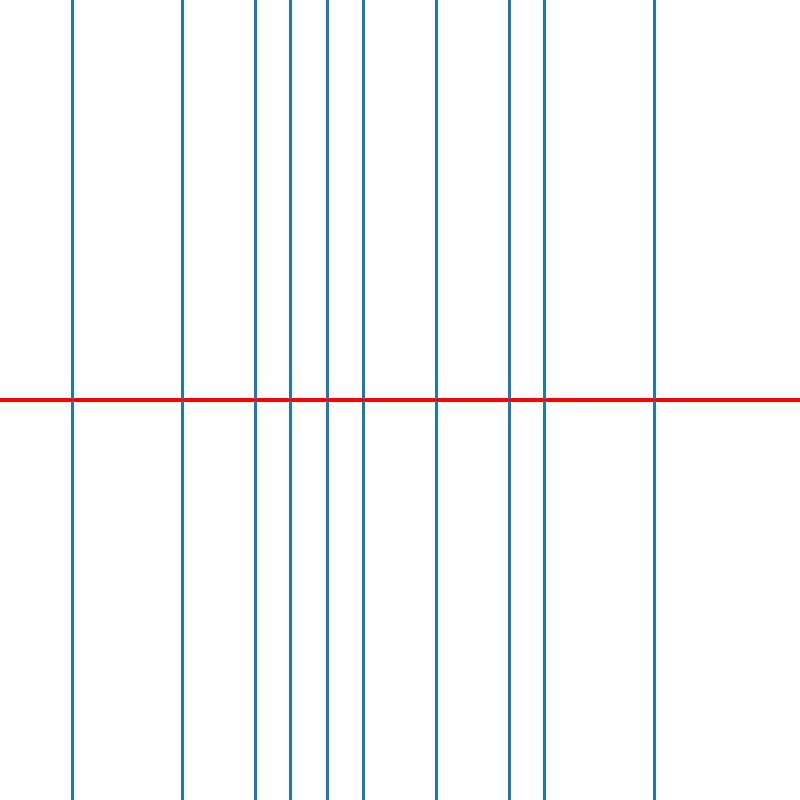root: (432, 396, 440, 404), (541, 396, 549, 404), (250, 396, 258, 404), (650, 396, 658, 404), (323, 396, 330, 404), (178, 396, 185, 404), (287, 396, 294, 404), (505, 396, 512, 404), (69, 396, 76, 404), (360, 396, 367, 404)
